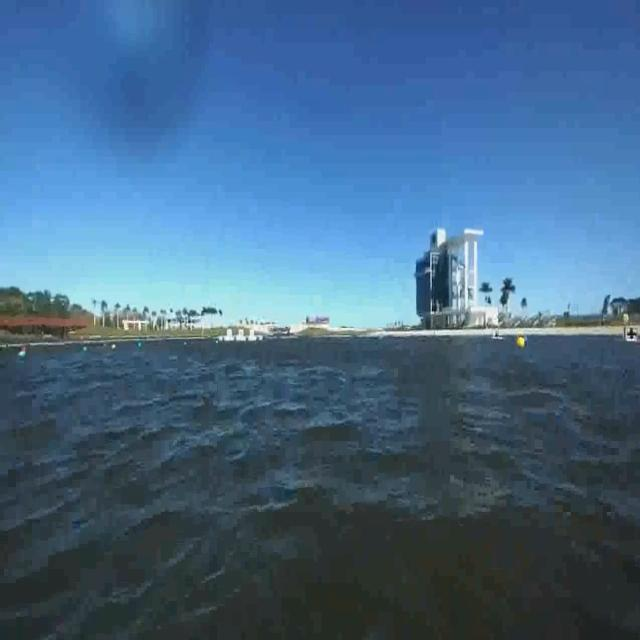yellow-buoy: (515, 336, 524, 351)
